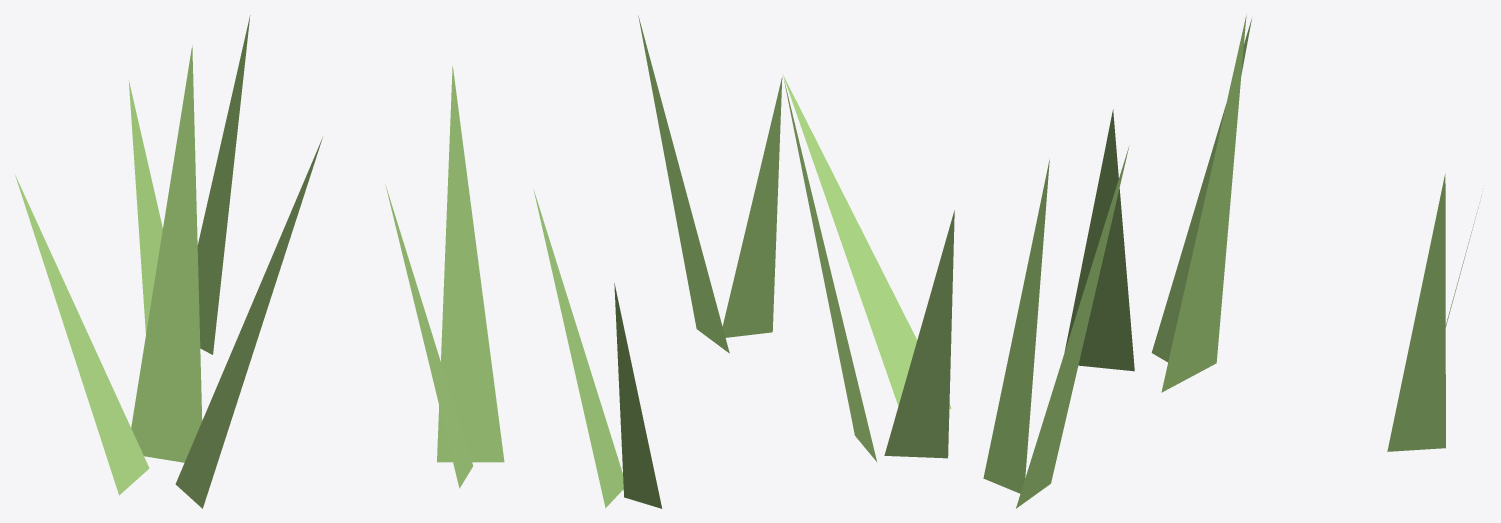
Rendered from Grass_c_TwoS_06.fbx.
3 renders of one model, left to right at view 1: azimuth 30°, elevation 25°; view 2: azimuth 150°, elevation 25°; view 3: azimuth 270°, elevation 25°, orthographic. The views are drawn at different scales.
Visible parts, largest first — view 1: Grass_c_TwoS_06; view 2: Grass_c_TwoS_06; view 3: Grass_c_TwoS_06.
Boxes of the visible parts, bbox=[...] form: Grass_c_TwoS_06: bbox=[15, 15, 504, 508]; Grass_c_TwoS_06: bbox=[533, 15, 954, 508]; Grass_c_TwoS_06: bbox=[983, 14, 1482, 508].
Size of the model in its own units: 58.64 by 57.52 by 65.77.
